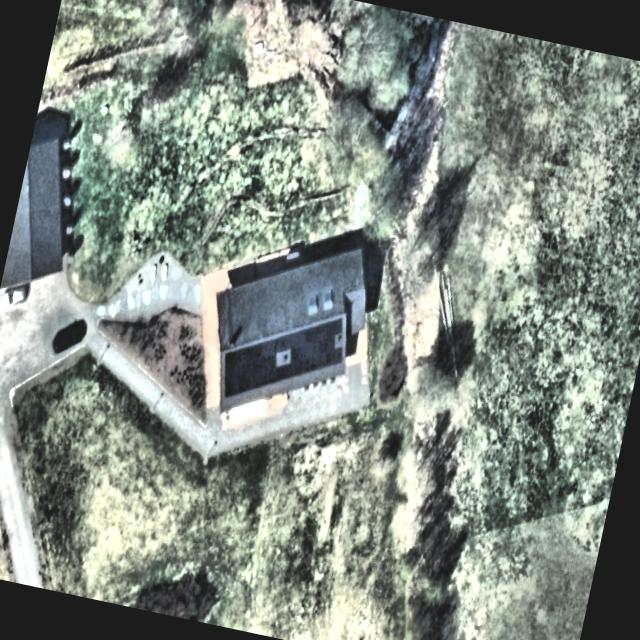roof_pv: (217, 328, 280, 412), (286, 313, 338, 376), (270, 361, 296, 382), (274, 331, 298, 353), (326, 348, 348, 367)
